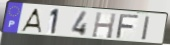1: (48, 8, 61, 35)
4: (70, 10, 89, 38)
A: (19, 8, 43, 35)
F: (114, 14, 142, 40)
H: (90, 11, 118, 40)
I: (141, 15, 152, 42)
